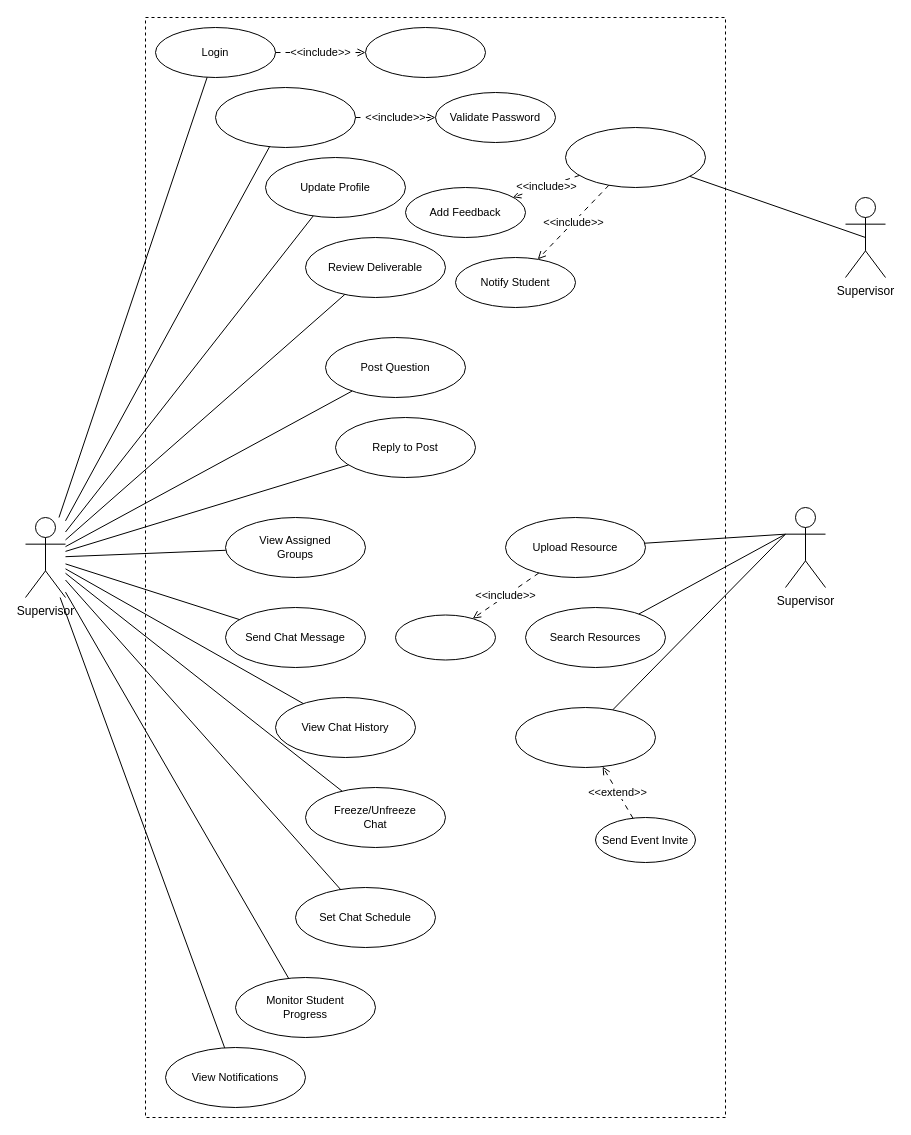
Some shapes in this 911 by 1135 pixel diagram are drawn without their labels. The shapes that lost their labels are listed below. From the top down, each one's centre as x and y in pixels, then its label:
the point at 425,52: Authenticate User
the point at 285,117: Change Password (First Login)
the point at 635,157: Provide Marks
the point at 445,637: Validate Resource
the point at 585,737: Create Event
